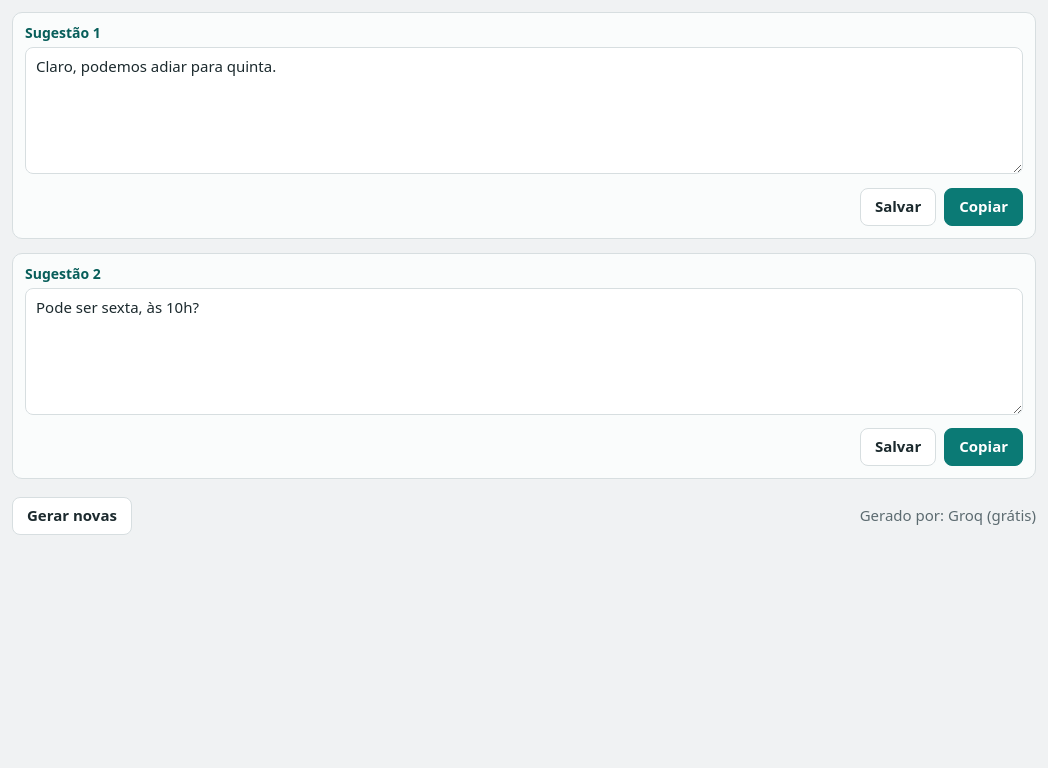
Test: Suggestions › ao escolher, as outras somem, o cartão fica marcado, o foco fica nele e é anunciado
Step 1. Click the 1st button "Salvar" → point(898, 207), box x1=860 y1=188 x2=936 y2=226
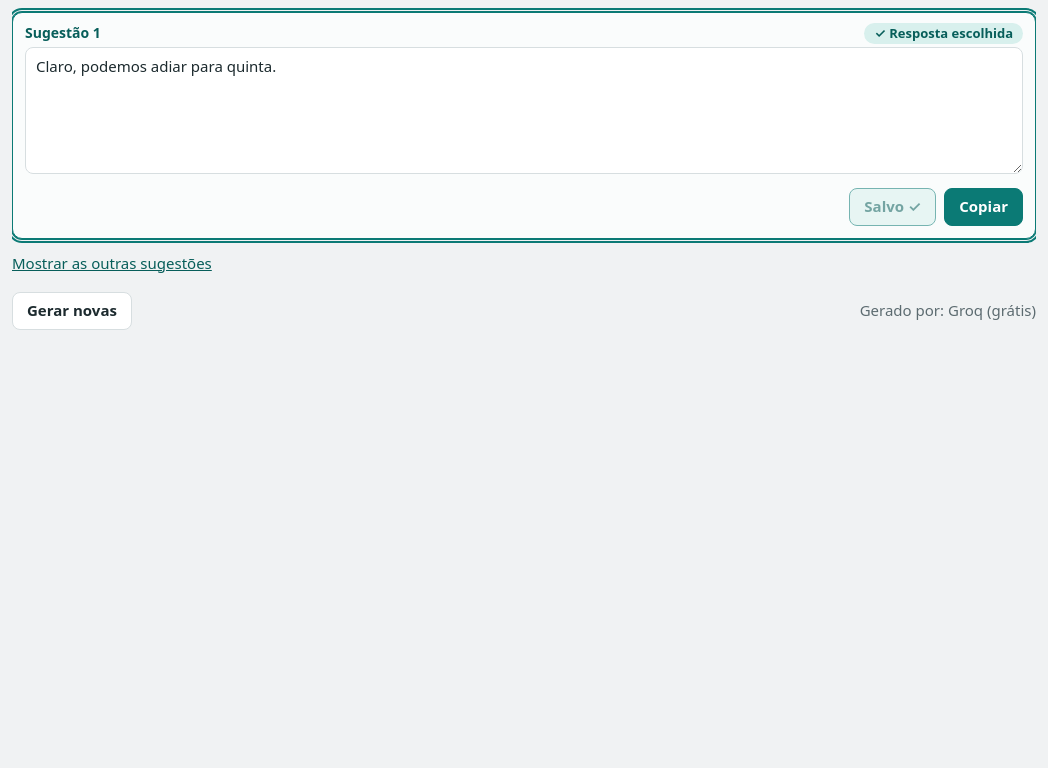
Now the button "Salvo ✓" is shown, box x1=849 y1=188 x2=936 y2=226
Now the number of text boxes is 1, box x1=25 y1=47 x2=1023 y2=174
Now the text "✓ Resposta escolhida" is shown, box x1=864 y1=23 x2=1023 y2=44
